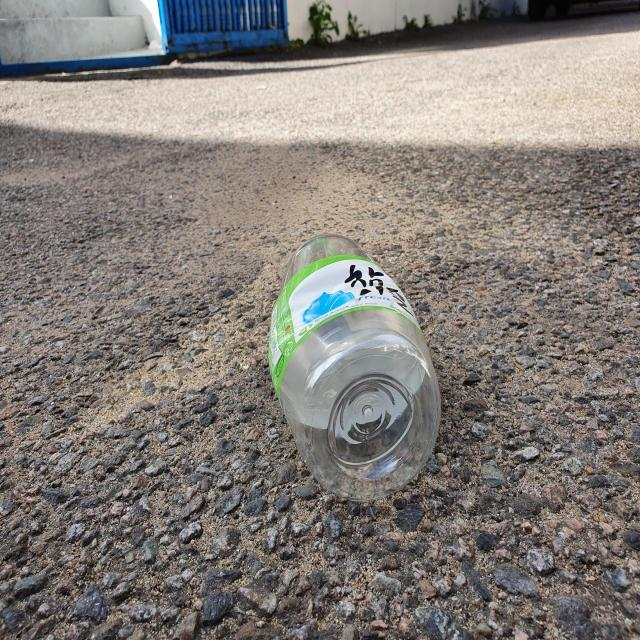plastic: (269, 234, 441, 501)
